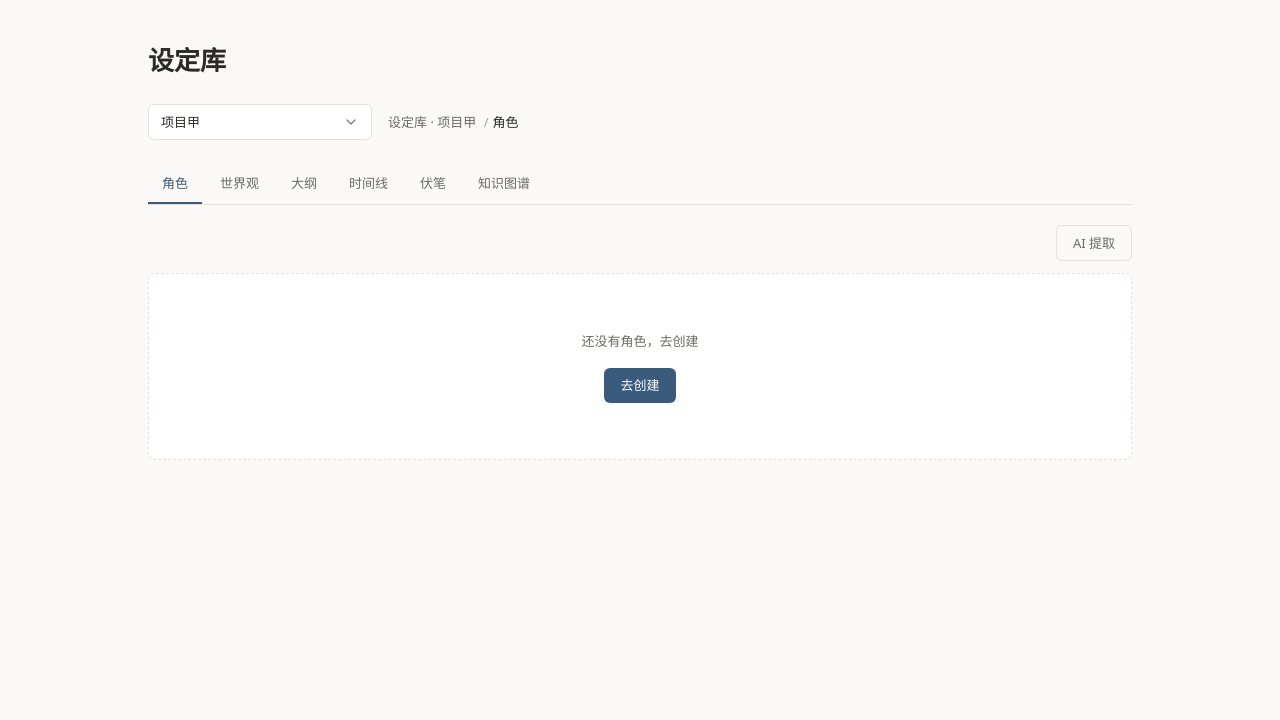
#1465-D 折叠态：画布左侧竖条（N18④） › N18④ 折叠后竖条在视图左侧（DOM 先于画布）+ 竖排（flex-col）
Click the tab "知识图谱": x=504, y=184 x1=464 y1=164 x2=544 y2=204
(page scrolled)
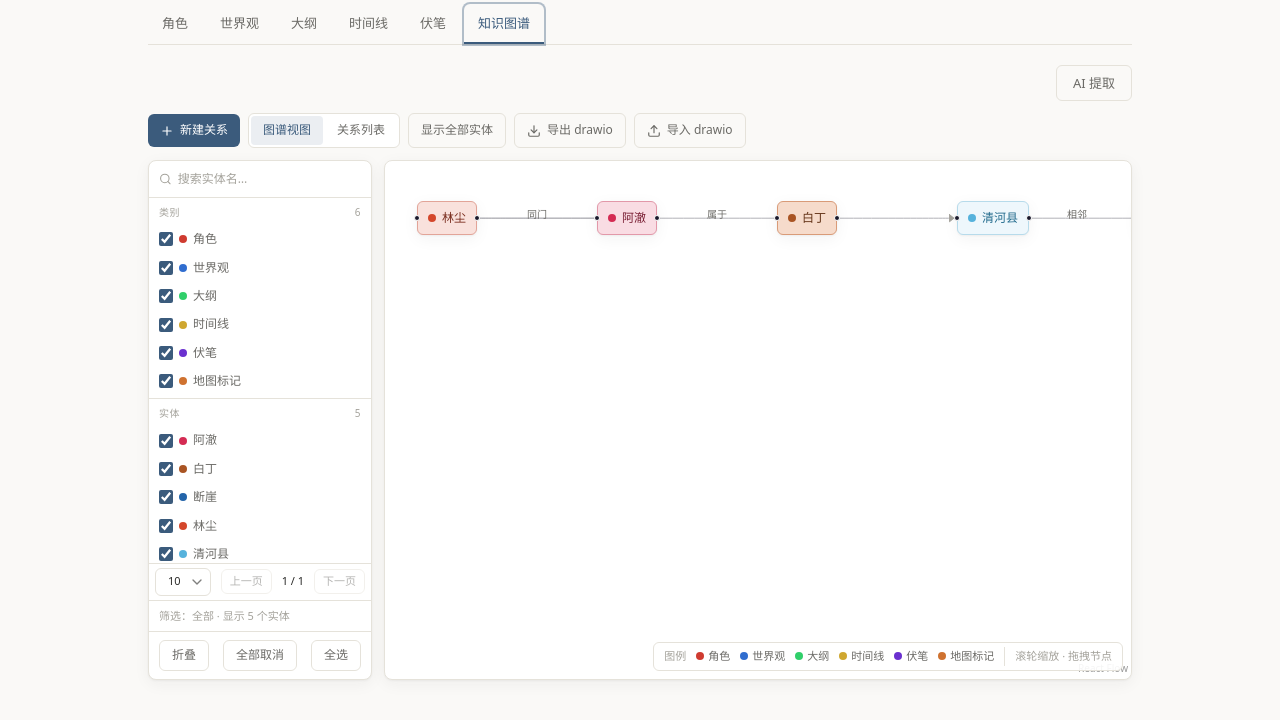
Expected: the element with test id "library-kg-canvas" is shown, x1=384 y1=160 x2=1132 y2=680
Expected: the element with test id "library-kg-node-character-c1" is shown, x1=417 y1=201 x2=477 y2=235
Click the button with test id "library-kg-filter-collapse": x=184, y=656 x1=159 y1=640 x2=209 y2=671
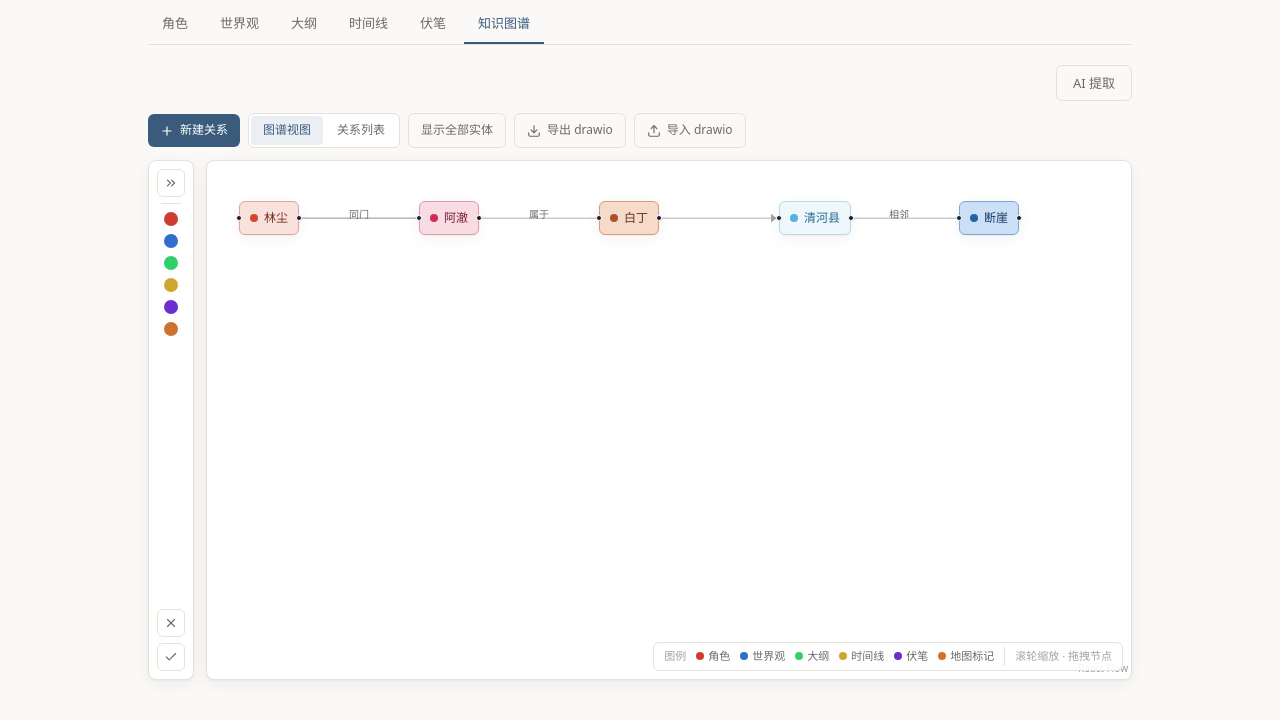
Expected: the element with test id "library-kg-filter-panel" is gone
Expected: the element with test id "library-kg-filterbar" is shown, x1=148 y1=160 x2=194 y2=680
